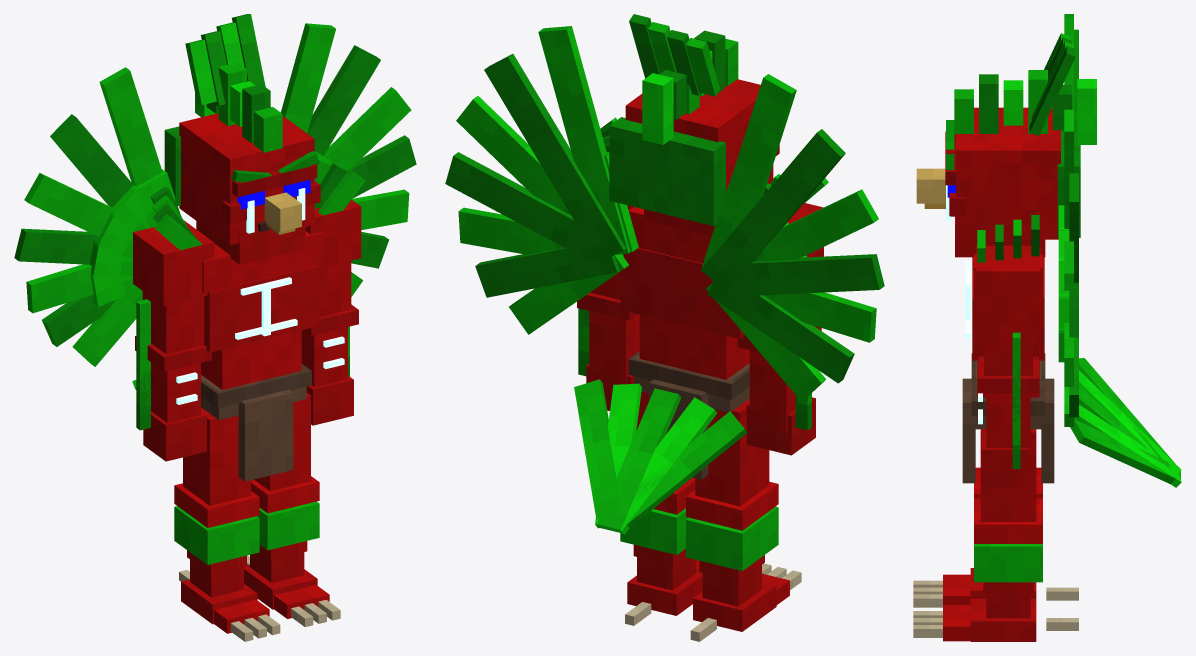
Rendered from harpy_s1_evo2.glb.
3 views of the same model, side by side, from view 1: azimuth 30°, elevation 25°; view 2: azimuth 150°, elevation 25°; view 3: azimuth 270°, elevation 25° (orthographic). The views are drawn at different scales.
Visible parts, largest first — view 1: Torso, Head, ArmR, LegR, ArmL, LegL, Root; view 2: Torso, Head, LegR, LegL, ArmR, ArmL, Root; view 3: Head, Torso, ArmL, LegL, Root, LegR.
Boxes of the visible parts, x1,y1,x2,y2 form: Torso: (14, 23, 416, 481); Head: (164, 14, 320, 264); ArmR: (133, 186, 214, 461); LegR: (174, 407, 269, 633); ArmL: (301, 159, 365, 425); LegL: (244, 393, 329, 618); Root: (179, 555, 340, 641); Torso: (445, 26, 884, 534); Head: (609, 14, 779, 235); LegR: (686, 399, 789, 631); LegL: (620, 383, 702, 615); ArmR: (737, 174, 828, 455); ArmL: (577, 117, 639, 410); Root: (625, 563, 801, 641); Head: (916, 33, 1096, 257); Torso: (962, 14, 1181, 487); ArmL: (976, 215, 1040, 487); LegL: (943, 429, 1042, 641); Root: (913, 580, 1078, 637); LegR: (943, 467, 1042, 604).
Size of the model in its own units: 1.46 by 1.94 by 0.8178.
Materials: 25 (25 with a texture image).
